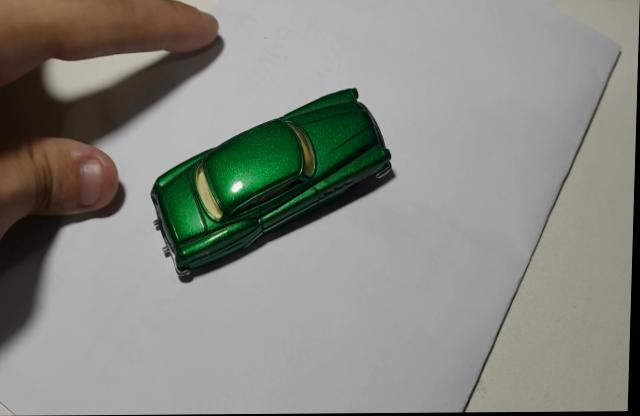06_MASERATI: (151, 89, 398, 285)
